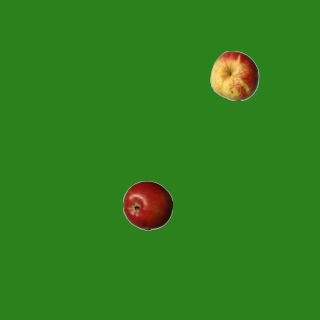Apple Braeburn: (122, 180, 172, 230)
Apple Red Yellow 1: (209, 50, 259, 100)
